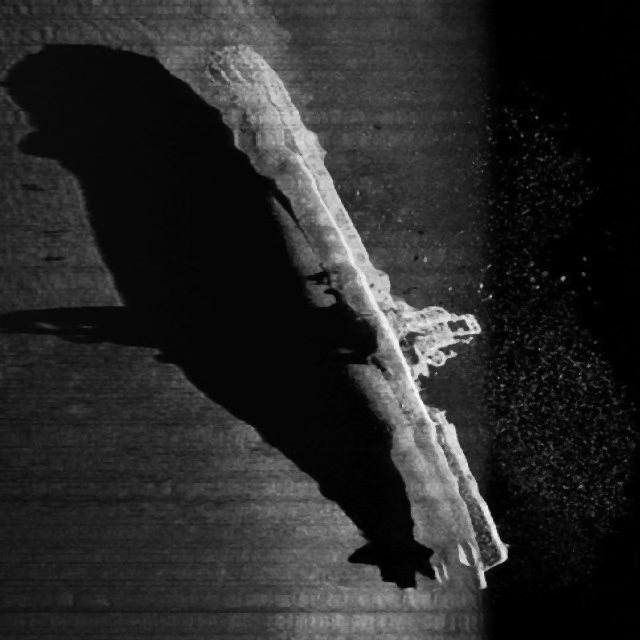Ship: (195, 40, 517, 597)
